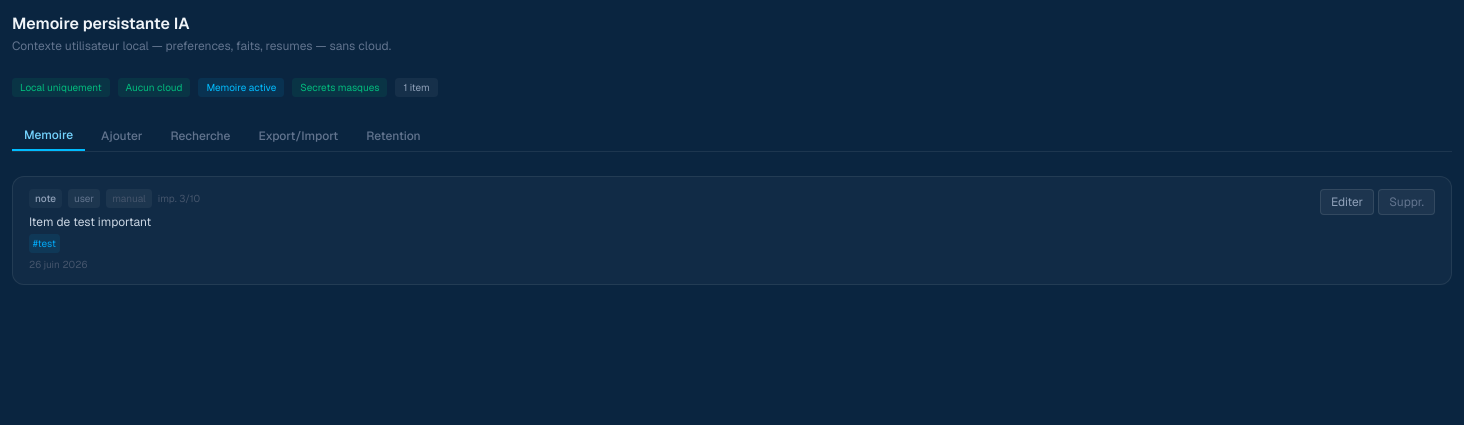
it: AiMemoryPanel › bascule vers l'onglet Retention
Click the button "Retention".
click(394, 136)  # box [354,121,433,151]
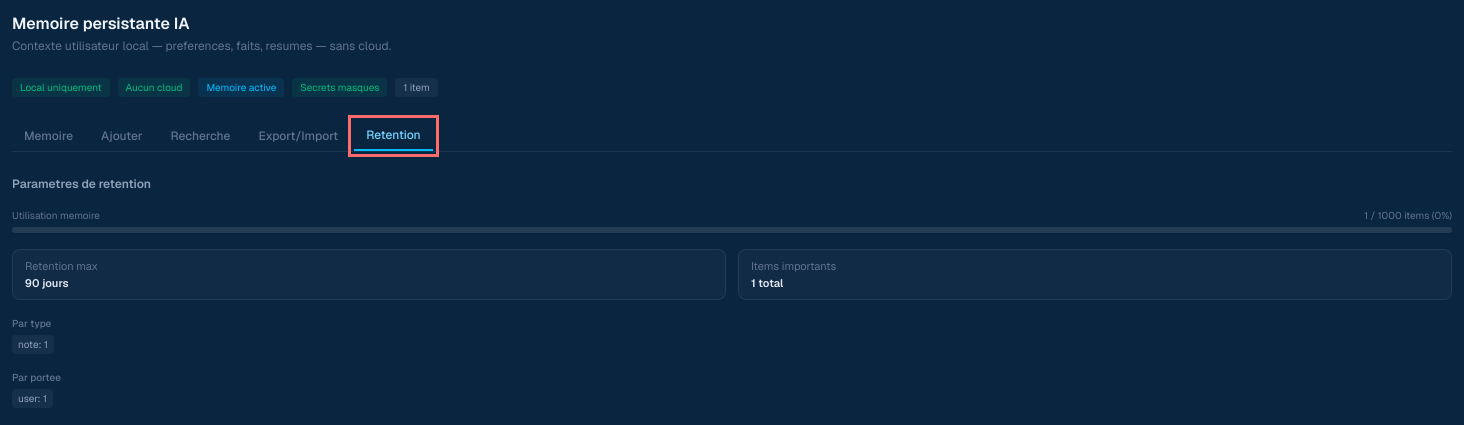
Expected: the text "Parametres de retention" is shown, [12,176,151,192]
